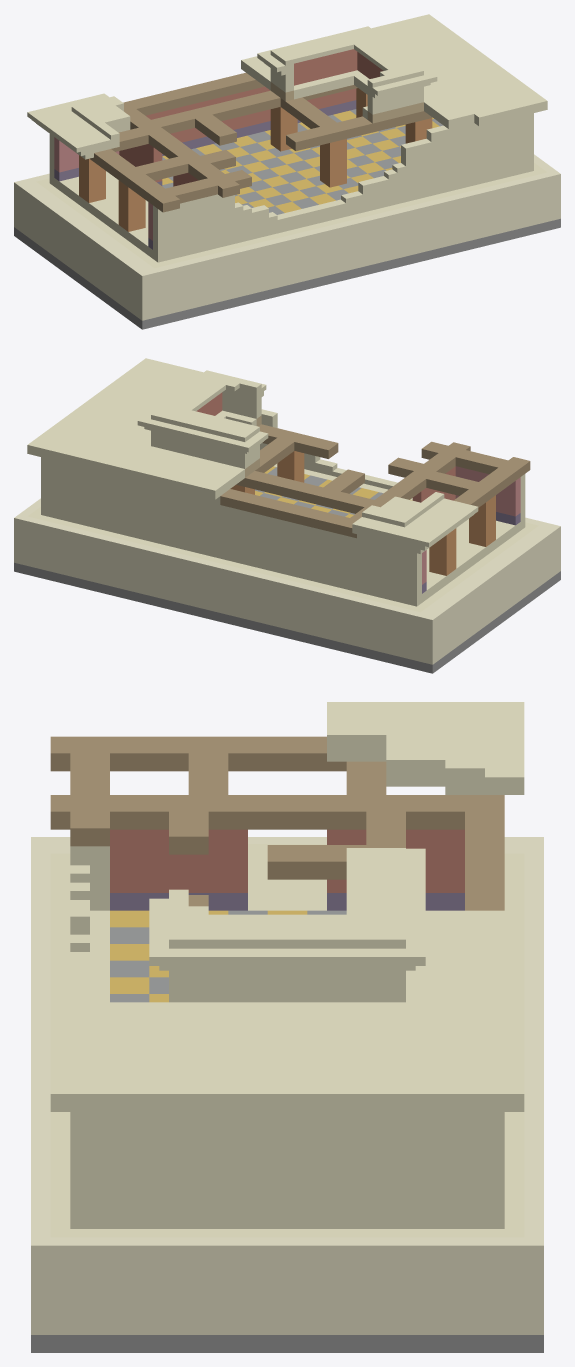
3 views of the same model, one above another, from view 1: azimuth 30°, elevation 25°; view 2: azimuth 150°, elevation 25°; view 3: azimuth 270°, elevation 25° (orthographic). The views are drawn at different scales.
Visible parts, largest first — view 1: Object_6, Object_8, Object_10, Object_5, Object_3, Object_16, Object_12, Object_13, Object_15, Object_9, Object_7, Object_11 (+2 smaller); view 2: Object_6, Object_8, Object_10, Object_5, Object_3, Object_9, Object_13, Object_7, Object_14, Object_15, Object_12, Object_16; view 3: Object_10, Object_8, Object_6, Object_5, Object_15, Object_3, Object_9, Object_7, Object_16, Object_11, Object_12.
Boxes of the visible parts, x1,y1,x2,y2 form: Object_6: (14,154,560,320); Object_8: (27,44,547,262); Object_10: (36,14,546,268); Object_5: (90,72,432,212); Object_3: (14,218,560,329); Object_16: (162,110,439,212); Object_12: (162,109,443,214); Object_13: (79,88,432,231); Object_15: (119,49,383,186); Object_9: (59,63,423,254); Object_7: (28,26,436,147); Object_11: (54,100,356,249); Object_6: (14,498,560,664); Object_8: (27,383,525,606); Object_10: (28,358,538,612); Object_5: (220,424,530,538); Object_3: (14,562,560,673); Object_9: (151,388,515,598); Object_13: (230,451,495,575); Object_7: (138,370,477,542); Object_14: (422,466,520,584); Object_15: (196,392,455,502); Object_12: (255,467,383,516); Object_16: (255,466,412,517); Object_10: (50,710,524,1237); Object_8: (50,735,524,1228); Object_6: (31,837,543,1334); Object_5: (50,736,504,910); Object_15: (110,829,464,892); Object_3: (31,1335,543,1352); Object_9: (169,970,405,1002); Object_7: (149,702,524,956); Object_16: (110,910,307,1002); Object_11: (110,893,464,910); Object_12: (110,910,346,1002).
Size of the model in its own units: 49 by 17.5 by 26.
